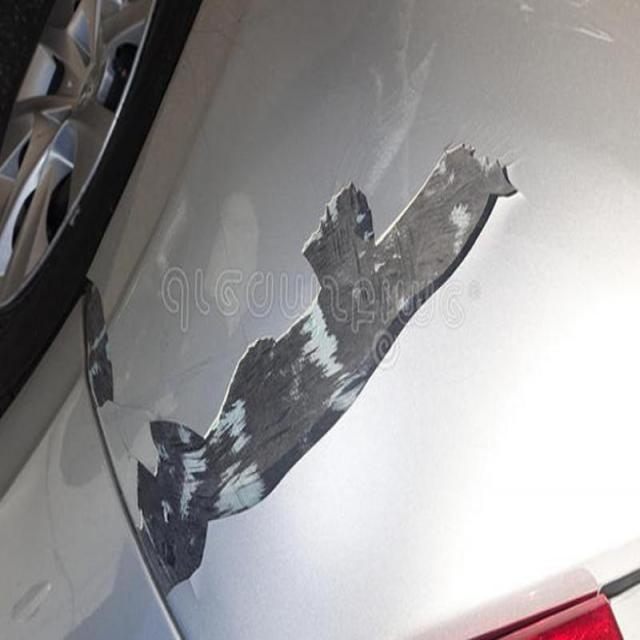scratch: (74, 98, 556, 589)
